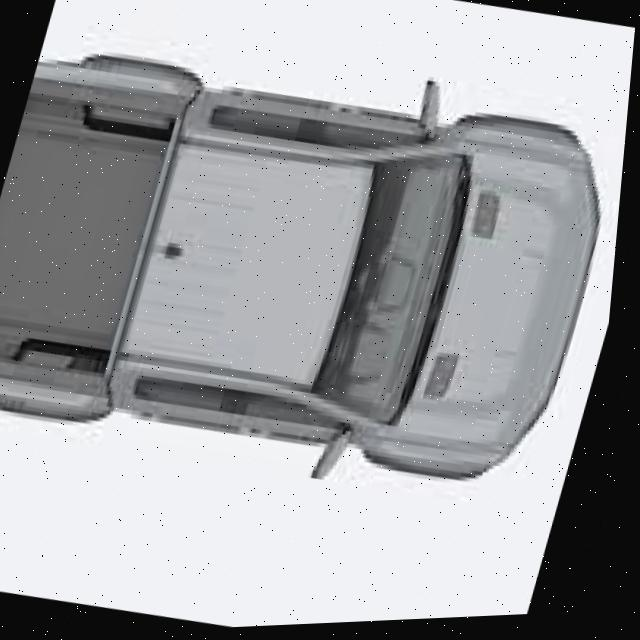truck: (0, 18, 637, 524)
